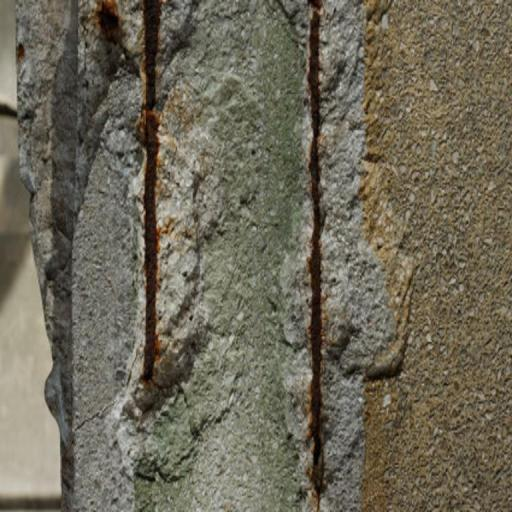spalling: (90, 0, 248, 464), (270, 0, 394, 502)
